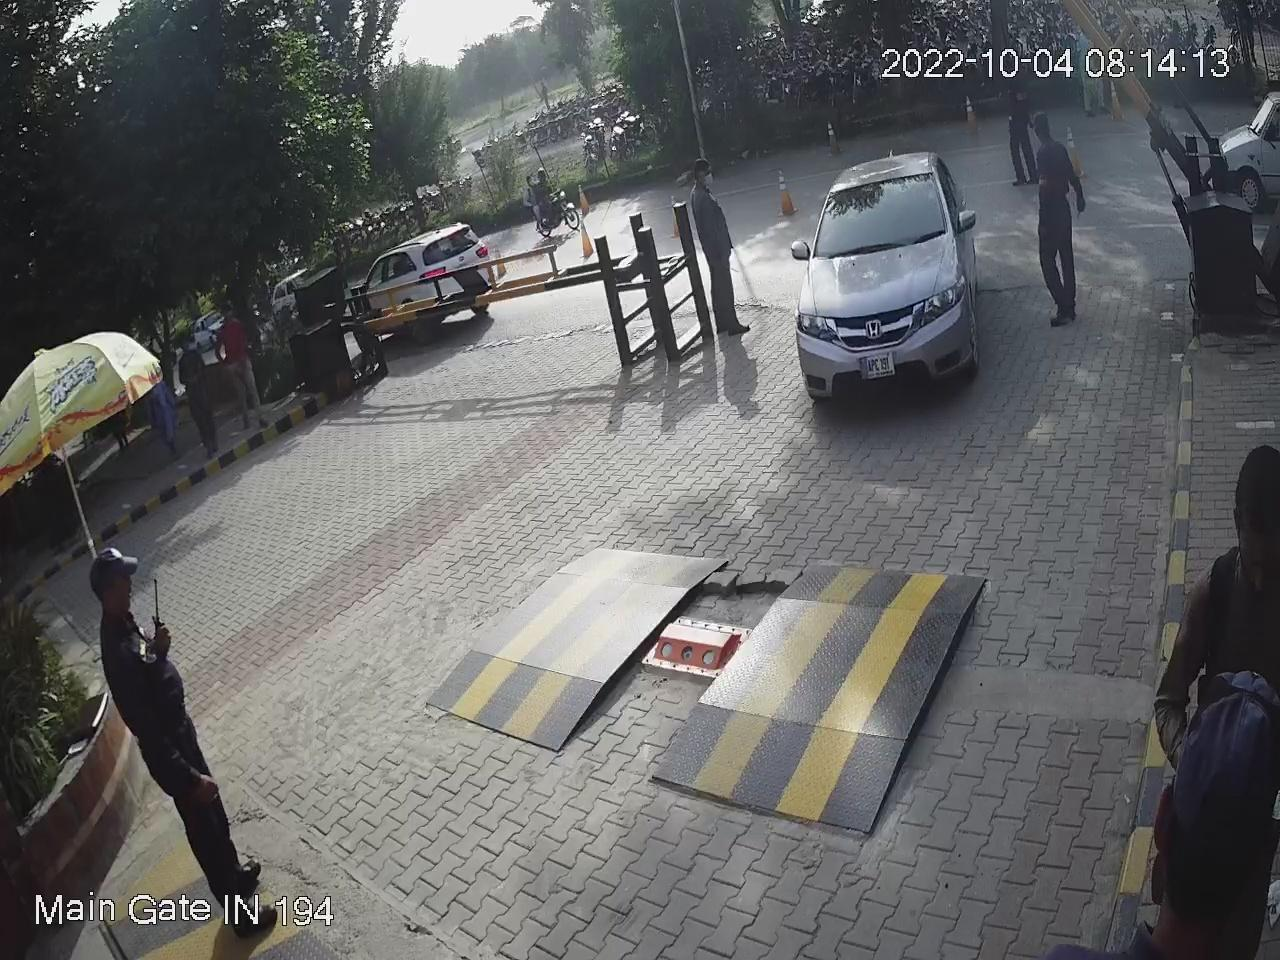windshield: (810, 170, 950, 260)
